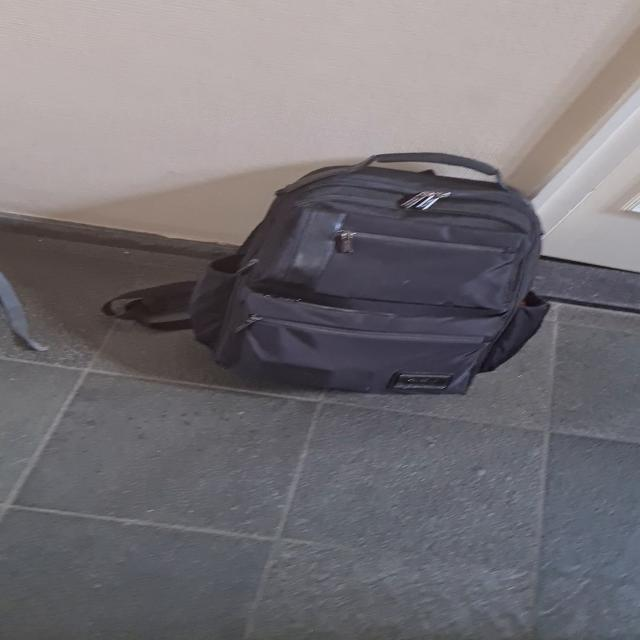backpack: (185, 148, 567, 398)
